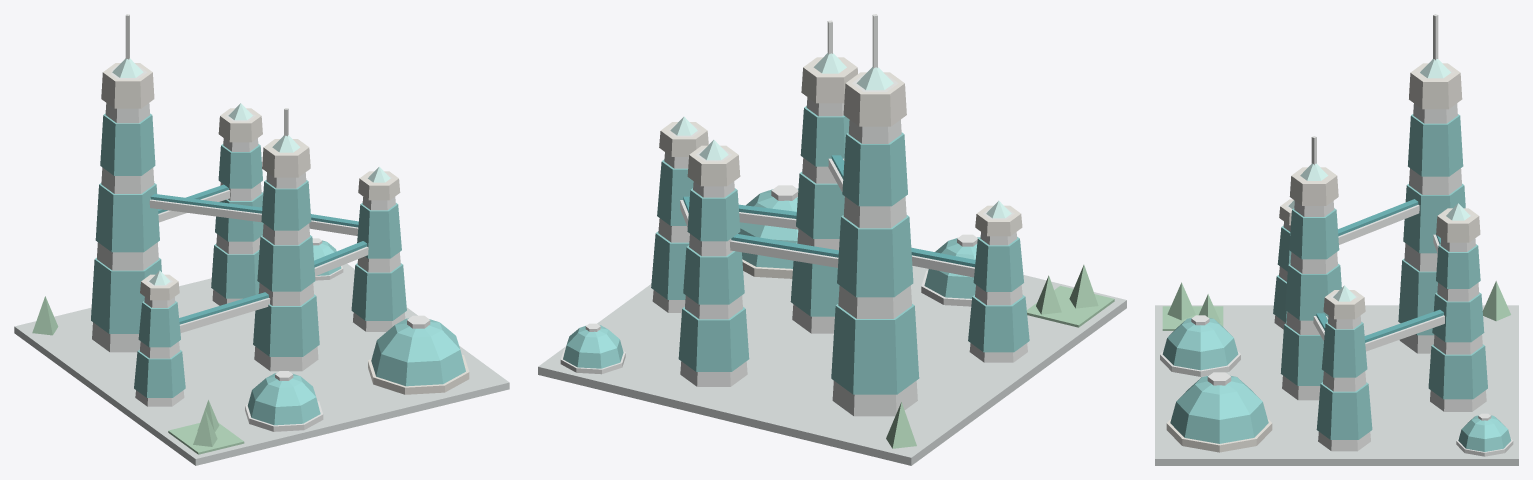
Rendered from city.glb.
3 views of the same model, side by side, from view 1: azimuth 30°, elevation 25°; view 2: azimuth 150°, elevation 25°; view 3: azimuth 270°, elevation 25° (orthographic). The views are drawn at different scales.
Visible parts, largest first — view 1: arcology_city; view 2: arcology_city; view 3: arcology_city.
Boxes of the visible parts, <box> form: arcology_city: <box>14,14,509,465</box>; arcology_city: <box>538,14,1126,465</box>; arcology_city: <box>1155,14,1518,465</box>.
Size of the model in its own units: 0.96 by 0.9675 by 0.96.
